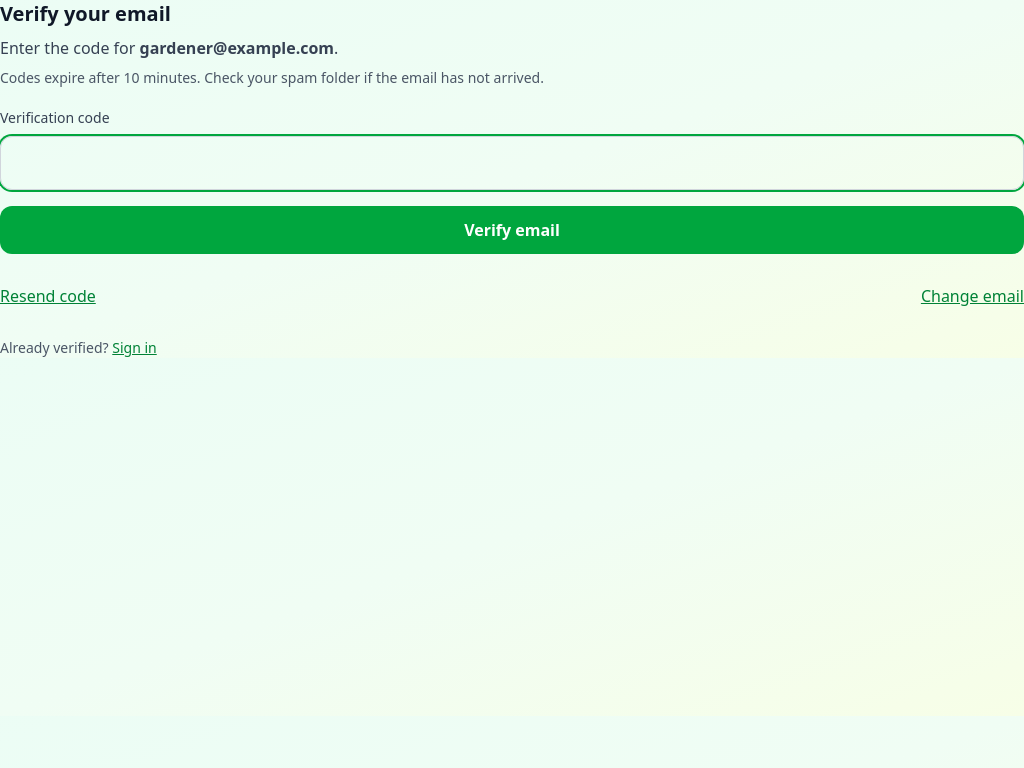
it: changes only the pending address, shows validation beside Email and allows retry
Expected: the heading "Verify your email" is shown, [0, 0, 171, 27]
Click the button "Change email" at (972, 296), box [921, 274, 1023, 318]
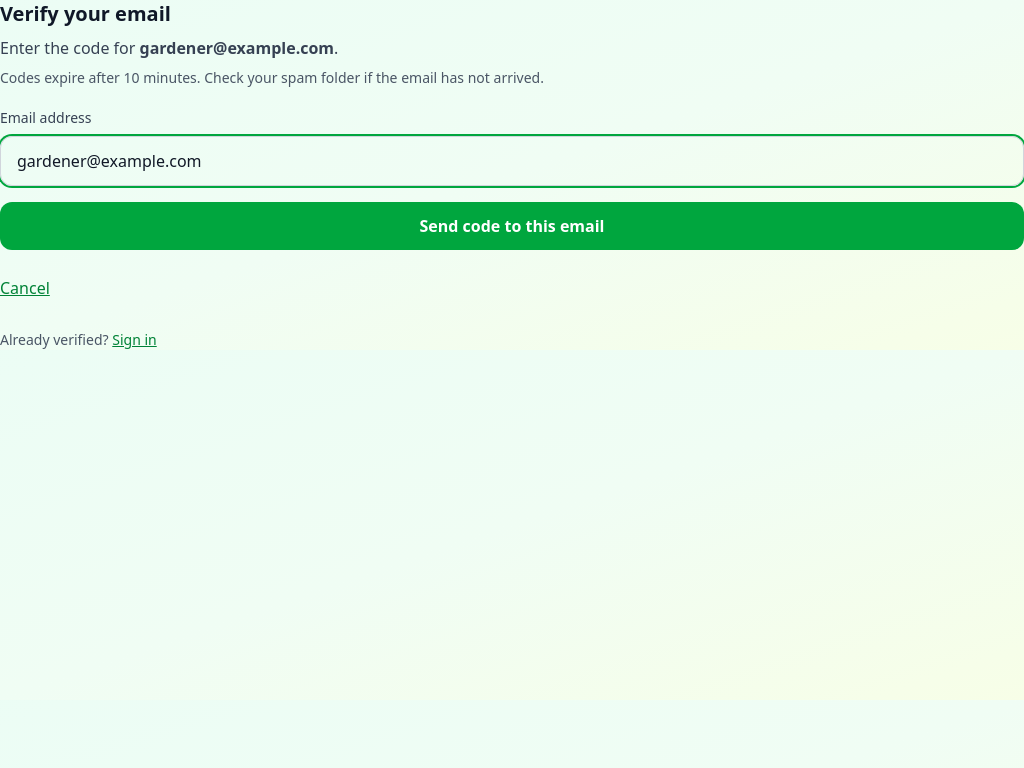
Replace the text in the field labelled "Email address" with "mistyped@" at (512, 161), box [0, 136, 1023, 186]
Click the button "Send code to this email" at (512, 226), box [0, 202, 1023, 250]
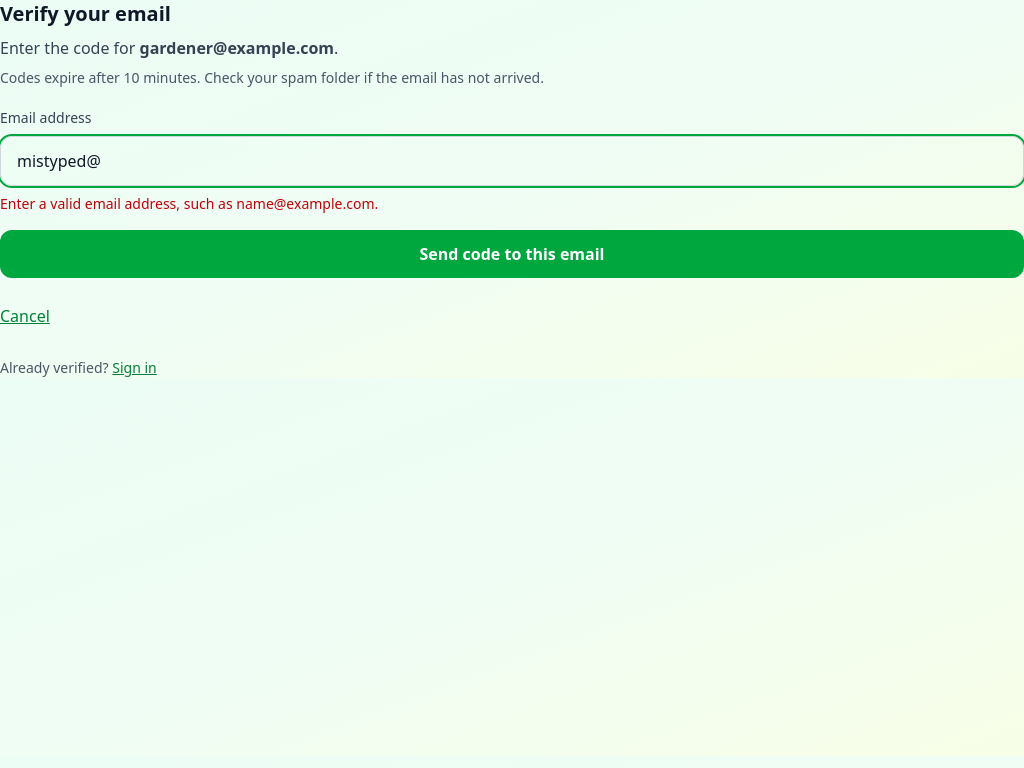
Replace the text in the field labelled "Email address" with "existing@example.com" at (512, 161), box [0, 136, 1023, 186]
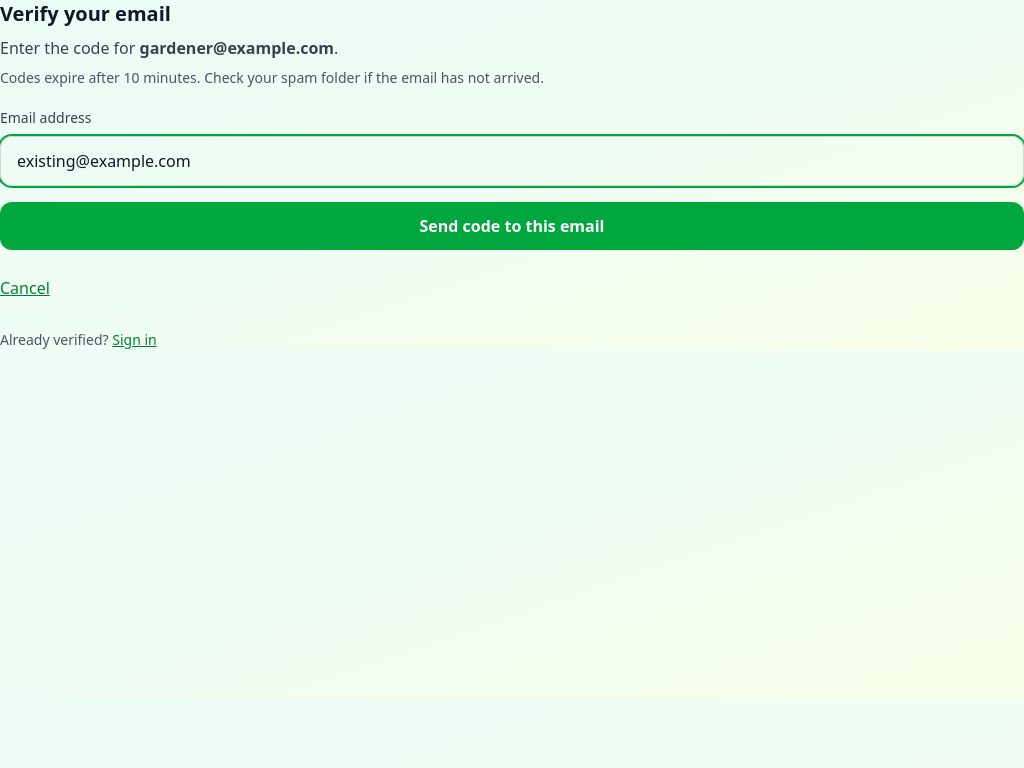
Click the button "Send code to this email" at (512, 226), box [0, 202, 1023, 250]
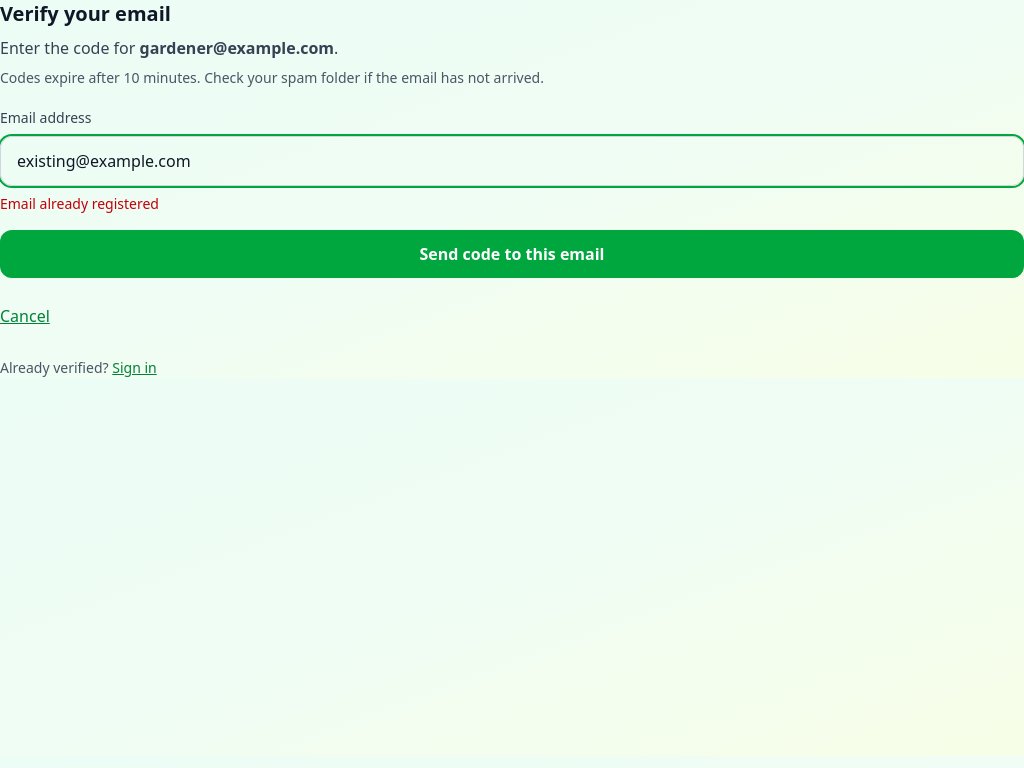
Now the text "Email already registered" is shown, box [0, 194, 159, 213]
Replace the text in the field labelled "Email address" with "correct@example.com" at (512, 161), box [0, 136, 1023, 186]
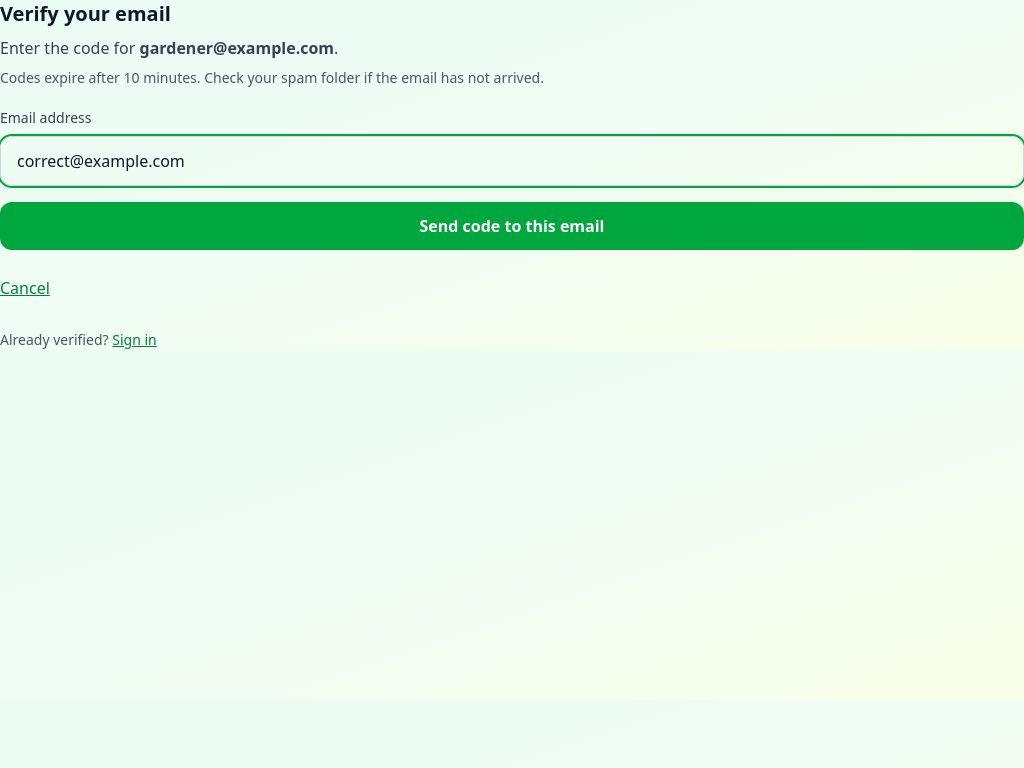
Click the button "Send code to this email" at (512, 226), box [0, 202, 1023, 250]
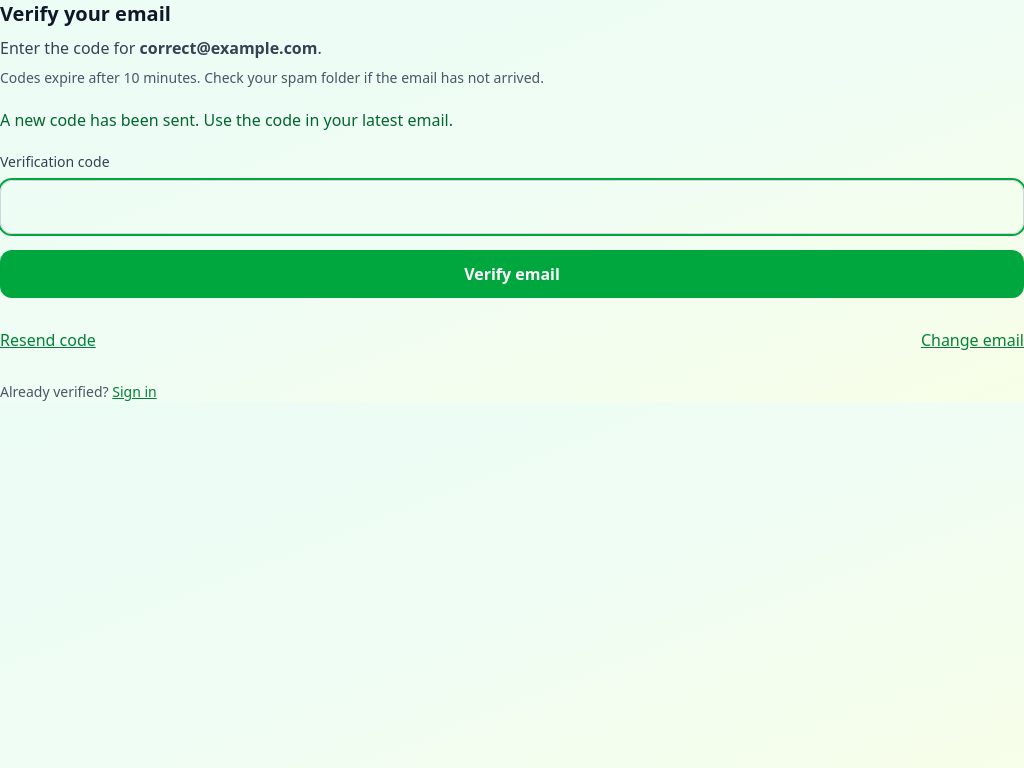
Now the text "correct@example.com" is shown, box [140, 37, 317, 59]
